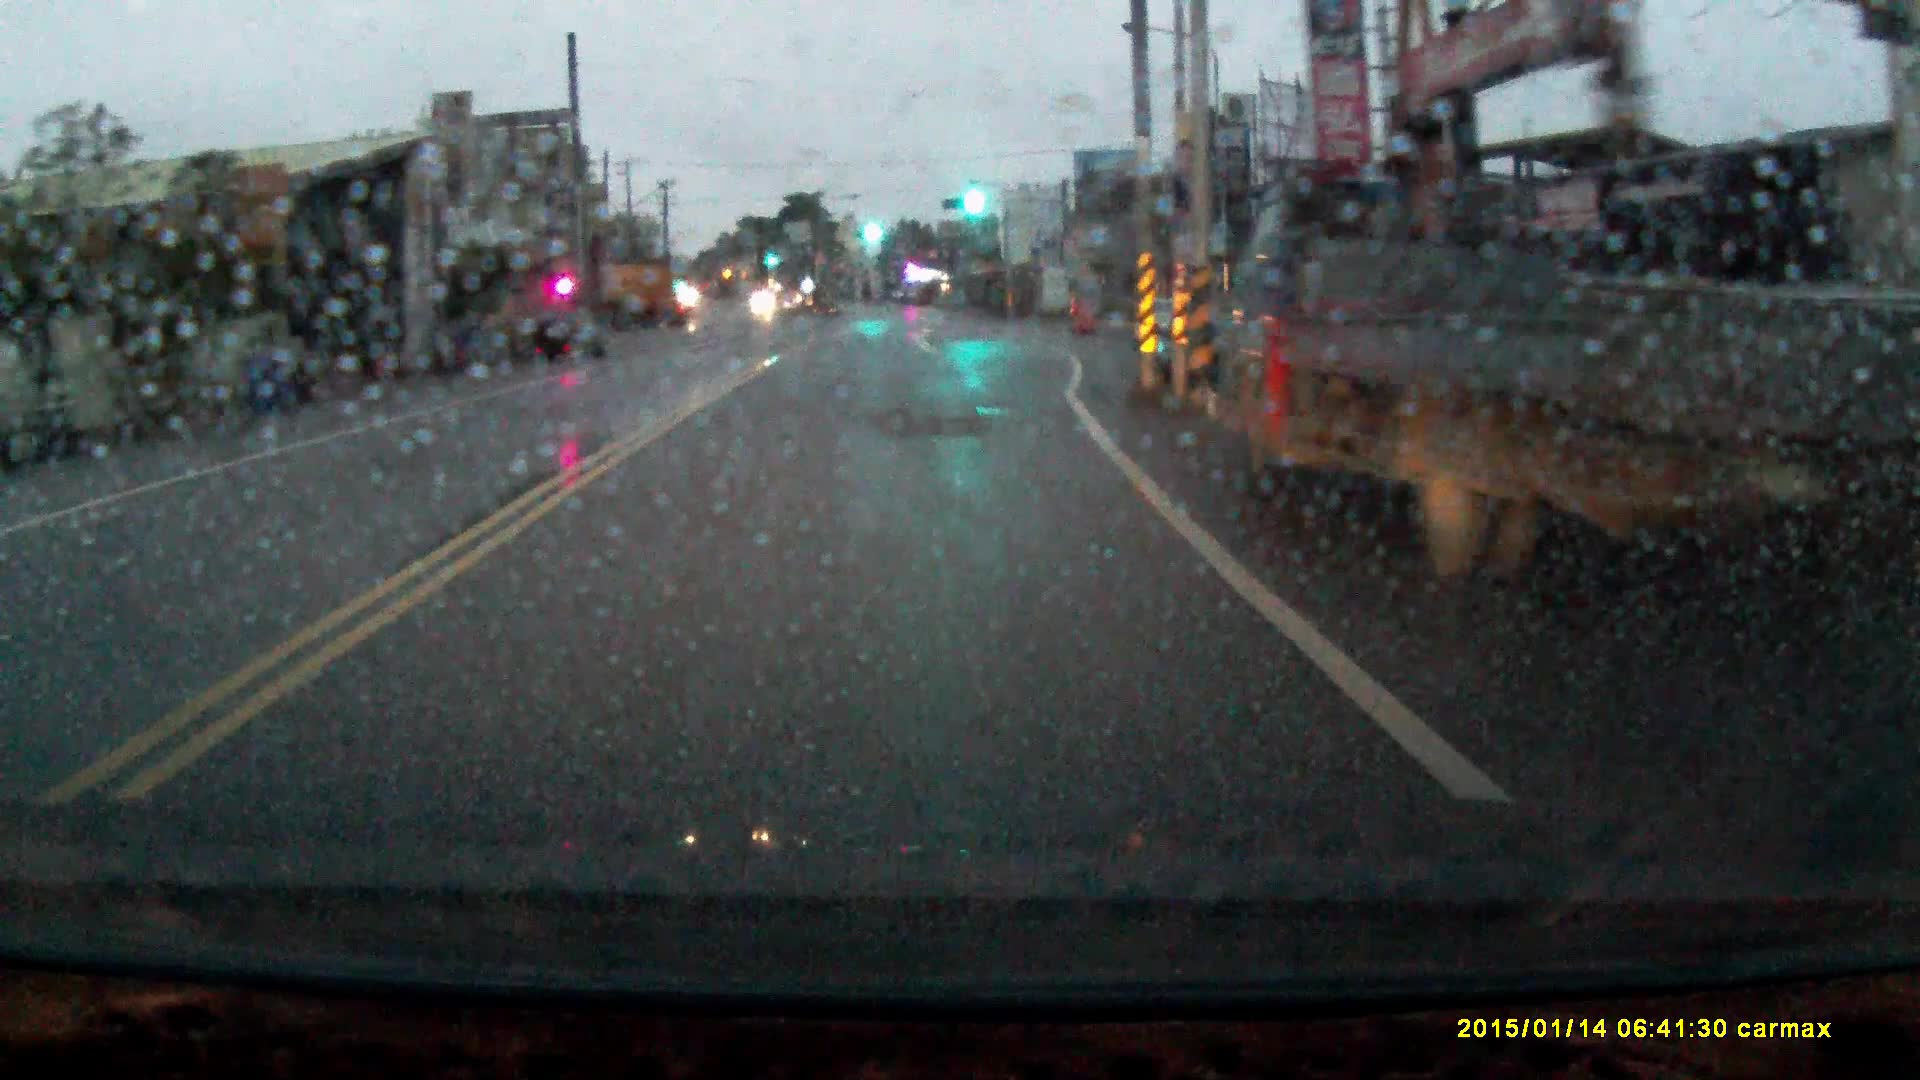vehicle: (1211, 189, 1909, 620), (578, 257, 680, 330), (527, 307, 607, 359)
